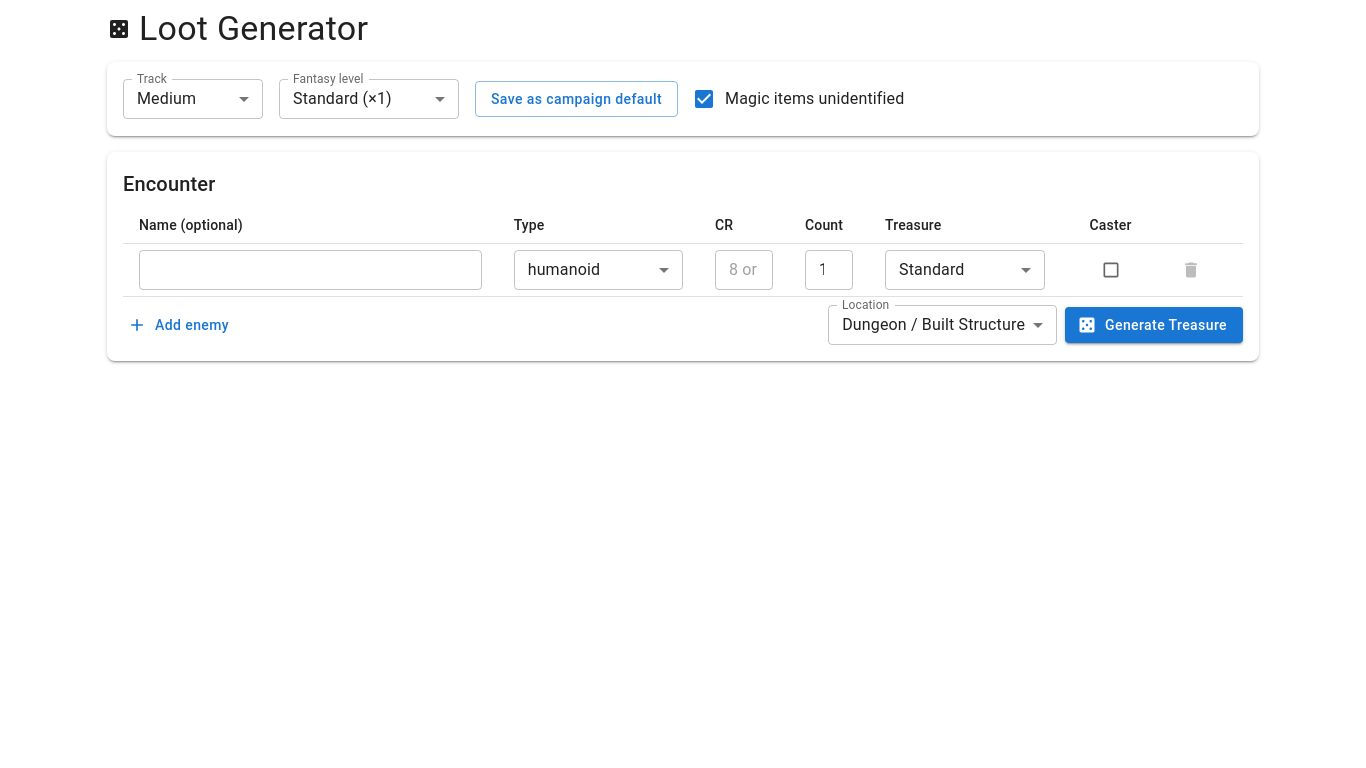
Test: LootGenerator › generates a preview and shows items and coins
Click the button "Generate Treasure": x=1154, y=325 [1065,307,1243,343]
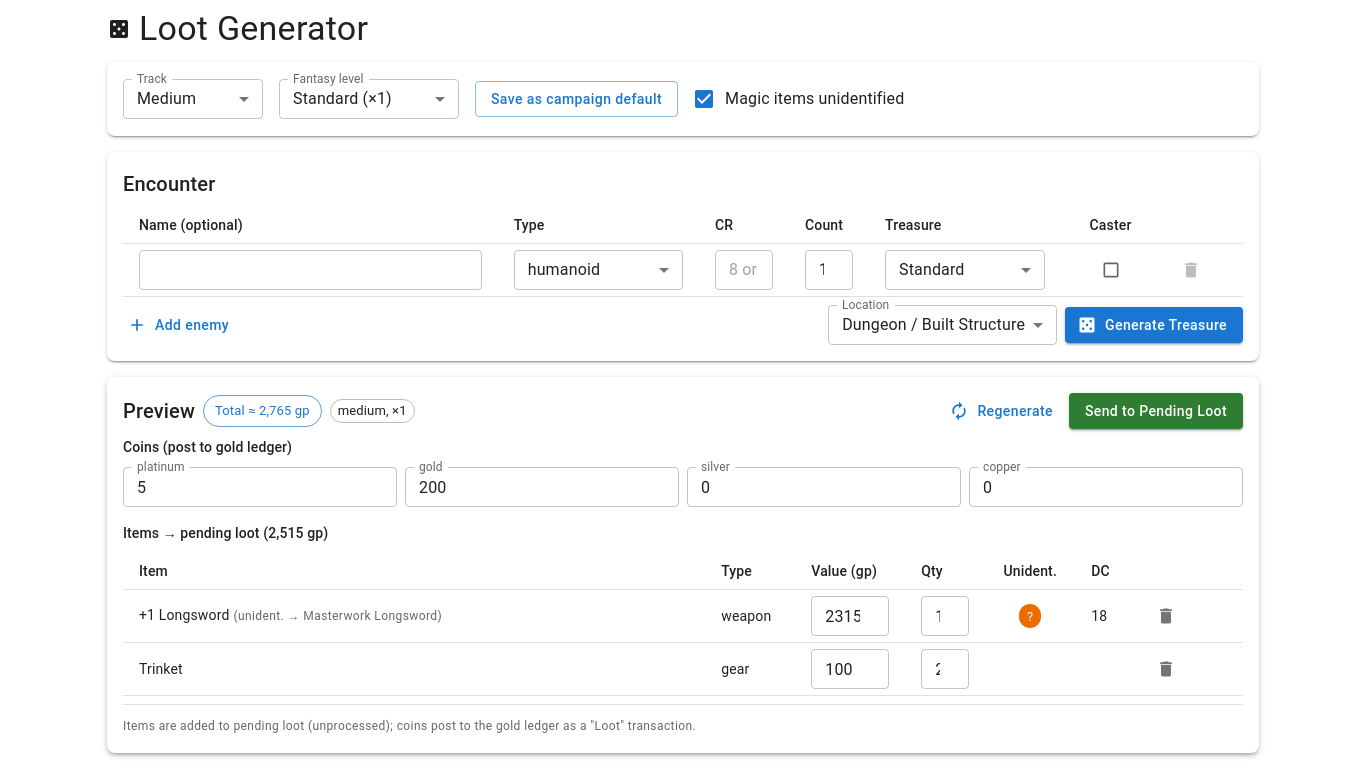
Expected: the text "+1 Longsword" is shown, [139,607,230,623]
Expected: the text "(unident. → Masterwork Longsword)" is shown, [234,609,442,623]
Expected: the text "Trinket" is shown, [123,643,705,696]
